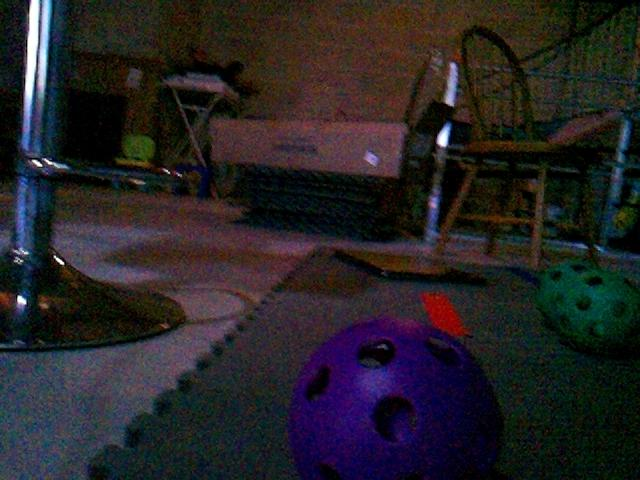Green: (563, 271, 639, 355), (541, 262, 598, 323)
Purple: (286, 316, 502, 479)
